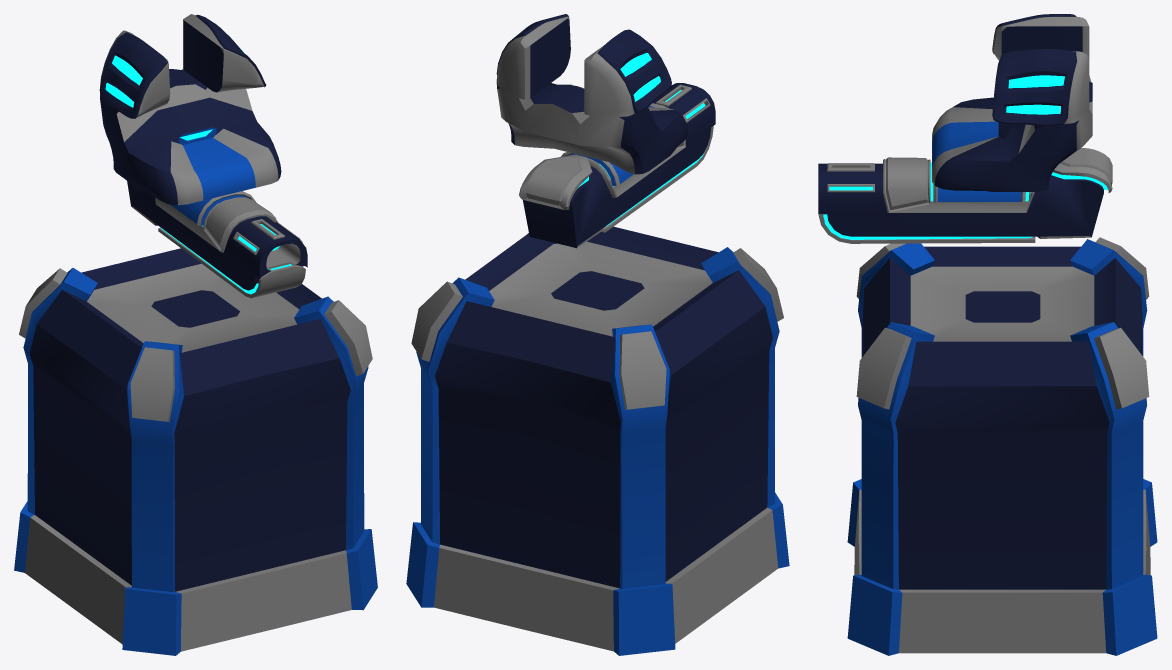
The model's file is tower_defense_lazer_kule.fbx.
3 renders of one model, left to right at view 1: azimuth 30°, elevation 25°; view 2: azimuth 150°, elevation 25°; view 3: azimuth 270°, elevation 25°, orthographic. The views are drawn at different scales.
Visible parts, largest first — view 1: Cube.004, Cube.013, Cube.014; view 2: Cube.004, Cube.013, Cube.014; view 3: Cube.004, Cube.013, Cube.014.
Part boxes in pixels (<box>): Cube.004: <box>14,248,377,655</box>; Cube.013: <box>99,14,281,205</box>; Cube.014: <box>127,181,307,298</box>; Cube.004: <box>406,226,789,655</box>; Cube.013: <box>496,14,687,174</box>; Cube.014: <box>519,83,715,248</box>; Cube.004: <box>847,237,1157,655</box>; Cube.013: <box>932,14,1092,191</box>; Cube.014: <box>818,148,1112,243</box>.
Size of the model in its own units: 222 by 441 by 242.
